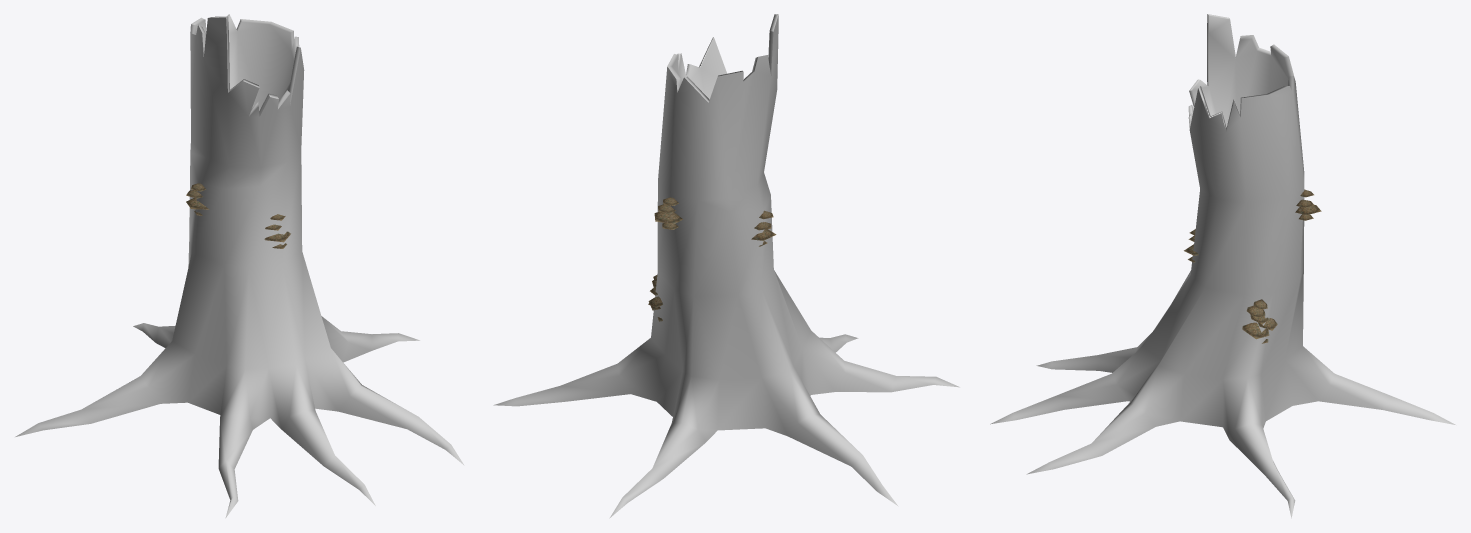
Rendered from Trunk3_LOD1.fbx.
The picture shows the model from 3 angles, left to right: view 1: azimuth 30°, elevation 25°; view 2: azimuth 150°, elevation 25°; view 3: azimuth 270°, elevation 25°; orthographic projection. The views are drawn at different scales.
Visible parts, largest first — view 1: polySurface271; view 2: polySurface271; view 3: polySurface271.
Part boxes in pixels (box(x1,y1,x2,y2)): polySurface271: box(15, 14, 464, 518); polySurface271: box(493, 14, 959, 518); polySurface271: box(990, 14, 1455, 518).
Bounding box in the file's own units: 3.66 × 3.58 × 3.85.
